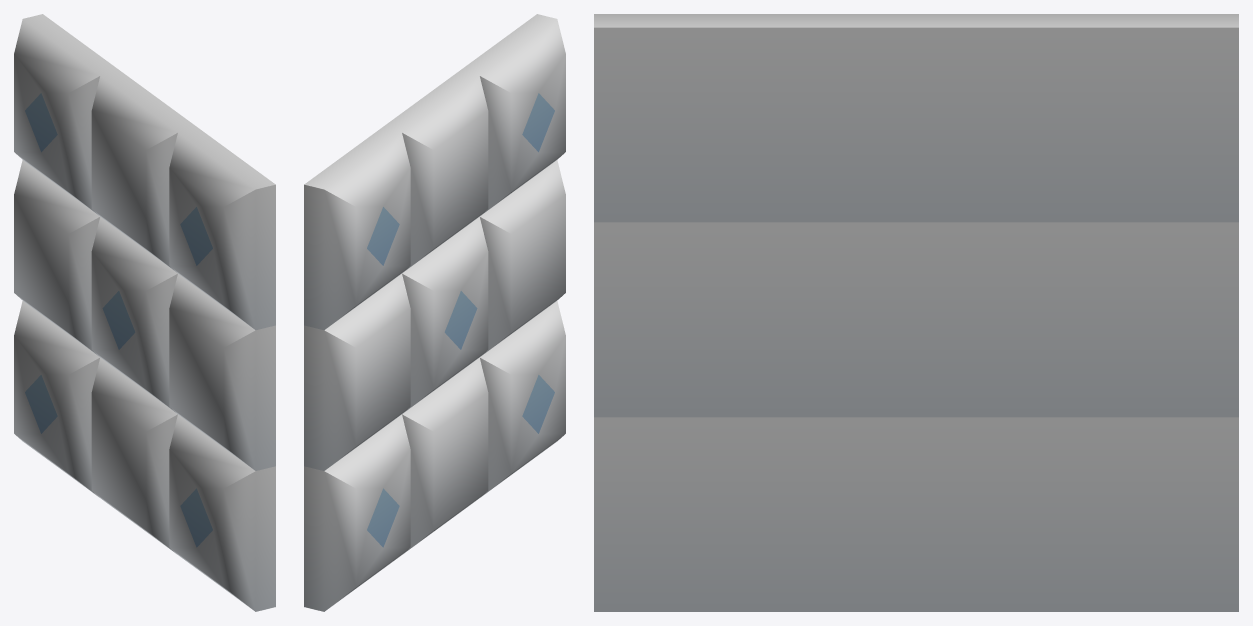
The model's file is wall-small-tiles-diamond (%wall).glb.
3 views of the same model, side by side, from view 1: azimuth 30°, elevation 25°; view 2: azimuth 150°, elevation 25°; view 3: azimuth 270°, elevation 25° (orthographic). The views are drawn at different scales.
Parts seen in each view (by area): view 1: wall-small-tiles-diamond (%wall); view 2: wall-small-tiles-diamond (%wall); view 3: wall-small-tiles-diamond (%wall).
Part boxes in pixels (<box>): wall-small-tiles-diamond (%wall): <box>14,14,275,611</box>; wall-small-tiles-diamond (%wall): <box>304,14,565,611</box>; wall-small-tiles-diamond (%wall): <box>594,14,1238,611</box>.
Bounding box in the file's own units: 0.05 × 0.5 × 0.5.
